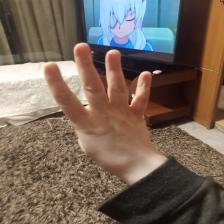four: (42, 41, 154, 162)
